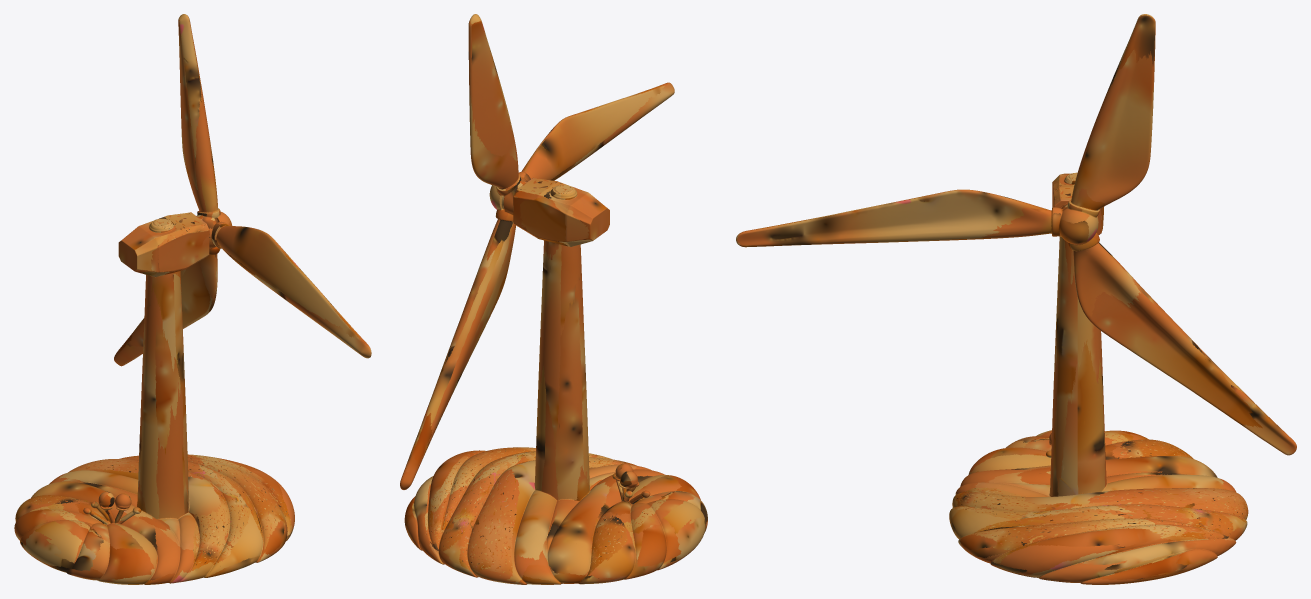
Rendered from fan.fbx.
3 renders of one model, left to right at view 1: azimuth 30°, elevation 25°; view 2: azimuth 150°, elevation 25°; view 3: azimuth 270°, elevation 25°, orthographic. The views are drawn at different scales.
Visible parts, largest first — view 1: texture_pbr_v128; view 2: texture_pbr_v128; view 3: texture_pbr_v128.
Part boxes in pixels (box(x1,y1,x2,y2)): texture_pbr_v128: box(14, 14, 371, 584); texture_pbr_v128: box(400, 14, 707, 584); texture_pbr_v128: box(736, 14, 1296, 584).
Bounding box in the file's own units: 50.6 × 95.17 × 90.46.
